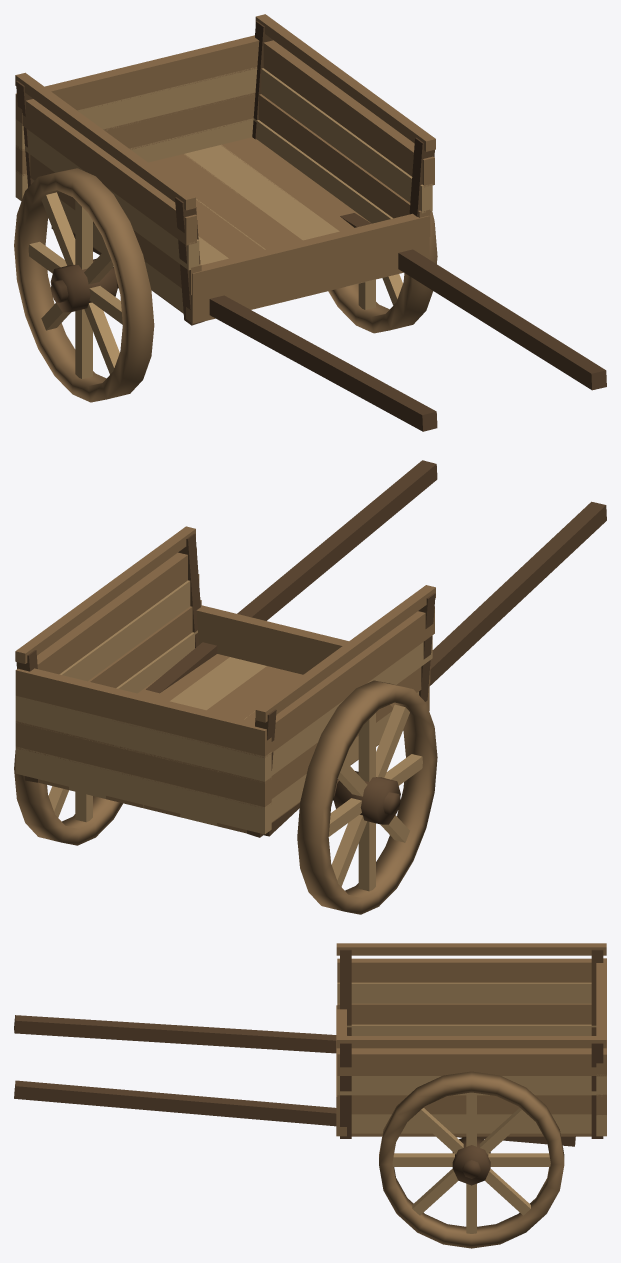
File: horse_cart_lod0.glb
3 renders of one model, top to bottom at view 1: azimuth 30°, elevation 25°; view 2: azimuth 150°, elevation 25°; view 3: azimuth 270°, elevation 25°, orthographic. The views are drawn at different scales.
Visible parts, largest first — view 1: CartBody.001, WheelLeft.001, WheelRight.001; view 2: CartBody.001, WheelLeft.001, WheelRight.001; view 3: CartBody.001, WheelRight.001.
Boxes of the visible parts, box(x1,y1,x2,y2) form: CartBody.001: box(15, 14, 606, 431); WheelLeft.001: box(14, 168, 154, 402); WheelRight.001: box(328, 211, 437, 333); CartBody.001: box(15, 460, 606, 837); WheelLeft.001: box(297, 680, 437, 914); WheelRight.001: box(14, 750, 122, 845); CartBody.001: box(14, 943, 606, 1178); WheelRight.001: box(379, 1071, 564, 1248).
Bounding box in the file's own units: 2.2 × 1.55 × 4.22.
